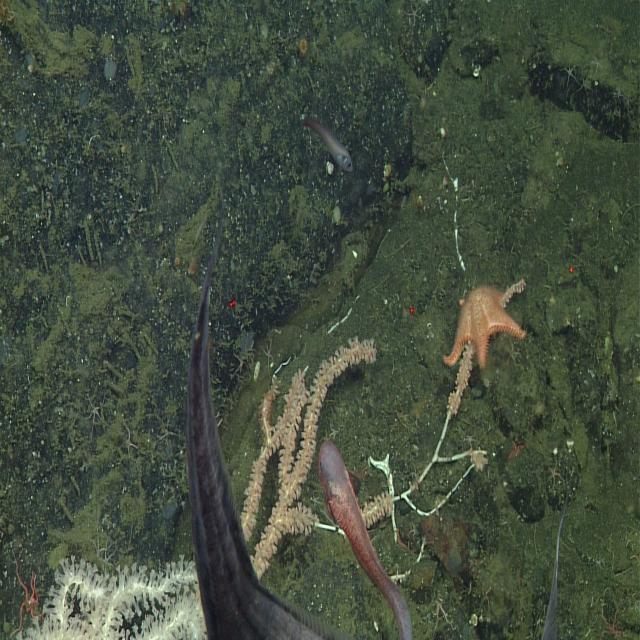Brittle Star: (8, 547, 44, 630)
Not Brittle Star: (441, 271, 532, 379), (297, 111, 356, 178)
